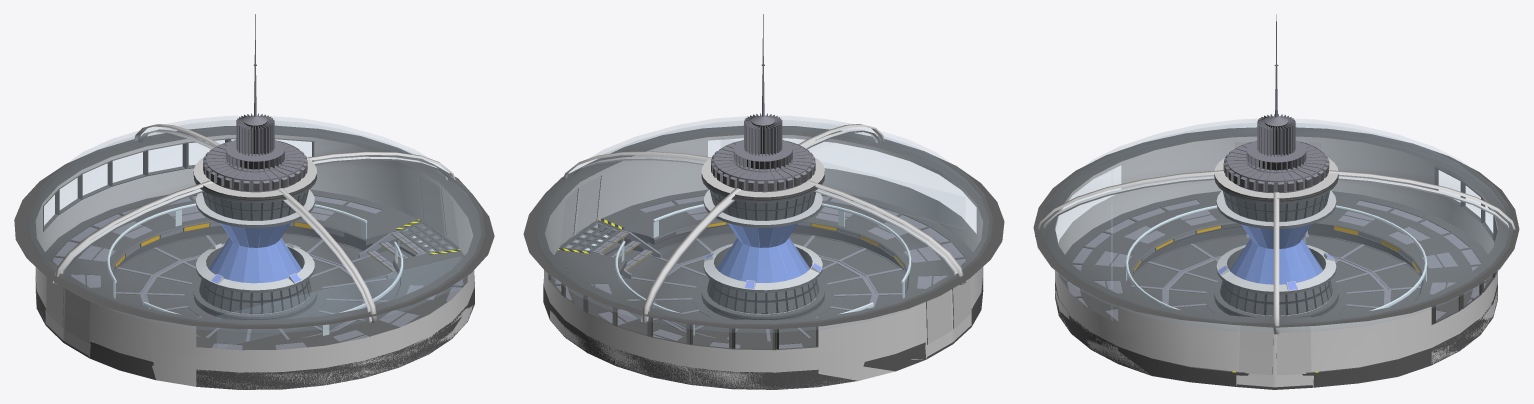
Rendered from SciFiBridgeBlenderModificado.fbx.
3 views of the same model, side by side, from view 1: azimuth 30°, elevation 25°; view 2: azimuth 150°, elevation 25°; view 3: azimuth 270°, elevation 25° (orthographic).
Parts seen in each view (by area): view 1: Mesh_4, Mesh_6.001, Mesh_6, Mesh_5, Mesh_1, Mesh_9, Mesh_7, Mesh_1.001, Pantalla, Holograma, Mesh_5.001, Barra (+1 smaller); view 2: Mesh_4, Mesh_6.001, Mesh_6, Mesh_5, Mesh_1, Mesh_9, Mesh_7, Mesh_1.001, Pantalla, Holograma, Barra, Mesh_5.001 (+1 smaller); view 3: Mesh_4, Mesh_6.001, Mesh_6, Mesh_5, Mesh_1, Mesh_9, Mesh_7, Mesh_1.001, Holograma, Barra, Mesh_5.001, Mesh_1.003.
Part boxes in pixels (x1,y1,x2,y2): Mesh_4: [29, 116, 481, 332]; Mesh_6.001: [35, 134, 474, 389]; Mesh_6: [35, 189, 474, 389]; Mesh_5: [14, 125, 494, 358]; Mesh_1: [193, 14, 316, 227]; Mesh_9: [46, 124, 458, 343]; Mesh_7: [52, 196, 463, 350]; Mesh_1.001: [193, 242, 317, 320]; Pantalla: [217, 257, 461, 347]; Holograma: [208, 223, 301, 283]; Mesh_5.001: [43, 138, 314, 231]; Barra: [107, 203, 403, 335]; Mesh_4: [537, 116, 988, 333]; Mesh_6.001: [543, 134, 983, 389]; Mesh_6: [543, 189, 983, 389]; Mesh_5: [523, 125, 1004, 359]; Mesh_1: [701, 14, 824, 227]; Mesh_9: [560, 124, 971, 344]; Mesh_7: [555, 196, 965, 348]; Mesh_1.001: [699, 243, 824, 320]; Pantalla: [721, 137, 965, 228]; Holograma: [717, 223, 809, 282]; Barra: [615, 203, 911, 335]; Mesh_5.001: [548, 274, 818, 350]; Mesh_4: [1043, 119, 1509, 331]; Mesh_6.001: [1055, 136, 1497, 387]; Mesh_6: [1055, 191, 1497, 387]; Mesh_5: [1033, 127, 1519, 389]; Mesh_1: [1214, 14, 1338, 228]; Mesh_9: [1035, 142, 1517, 375]; Mesh_7: [1067, 200, 1485, 321]; Mesh_1.001: [1206, 244, 1346, 318]; Holograma: [1230, 224, 1322, 284]; Barra: [1125, 205, 1427, 310]; Mesh_5.001: [1431, 167, 1497, 324]; Mesh_1.003: [1205, 279, 1347, 315].
Size of the model in its own units: 3 by 2.01 by 3.07.
